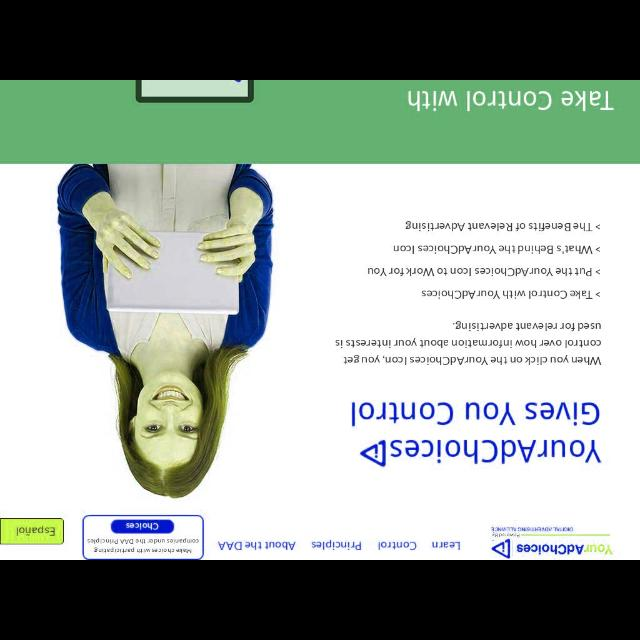backgroundimage: (56, 164, 274, 498)
image: (352, 402, 600, 466), (491, 526, 614, 558), (136, 81, 254, 103)
multitab: (218, 538, 460, 550)
panel: (1, 81, 639, 162), (82, 515, 204, 559)
text: (368, 222, 600, 298), (334, 321, 602, 365), (407, 91, 613, 111), (88, 539, 198, 553), (218, 542, 294, 550), (312, 540, 361, 550), (16, 526, 54, 536), (378, 542, 416, 550), (126, 522, 158, 530), (432, 542, 460, 550)
textbutton: (1, 518, 64, 544), (110, 519, 174, 533)
